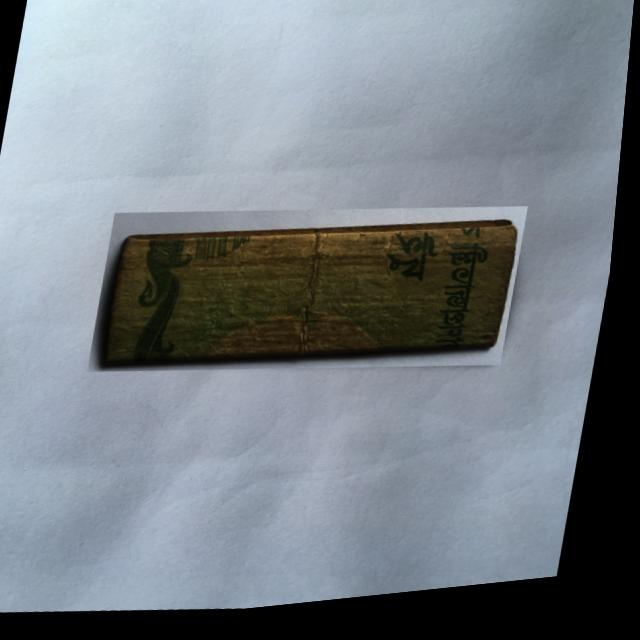Taka: (92, 182, 535, 411)
